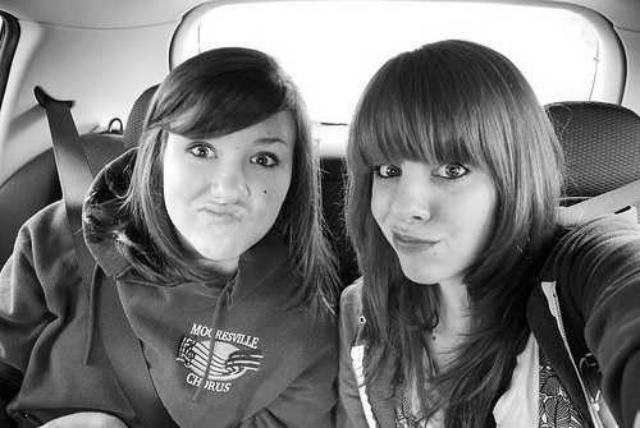SafeDriving: (424, 153, 476, 187), (176, 130, 224, 165), (364, 152, 410, 185), (241, 142, 287, 174)
Seatbelt: (40, 95, 181, 428)
